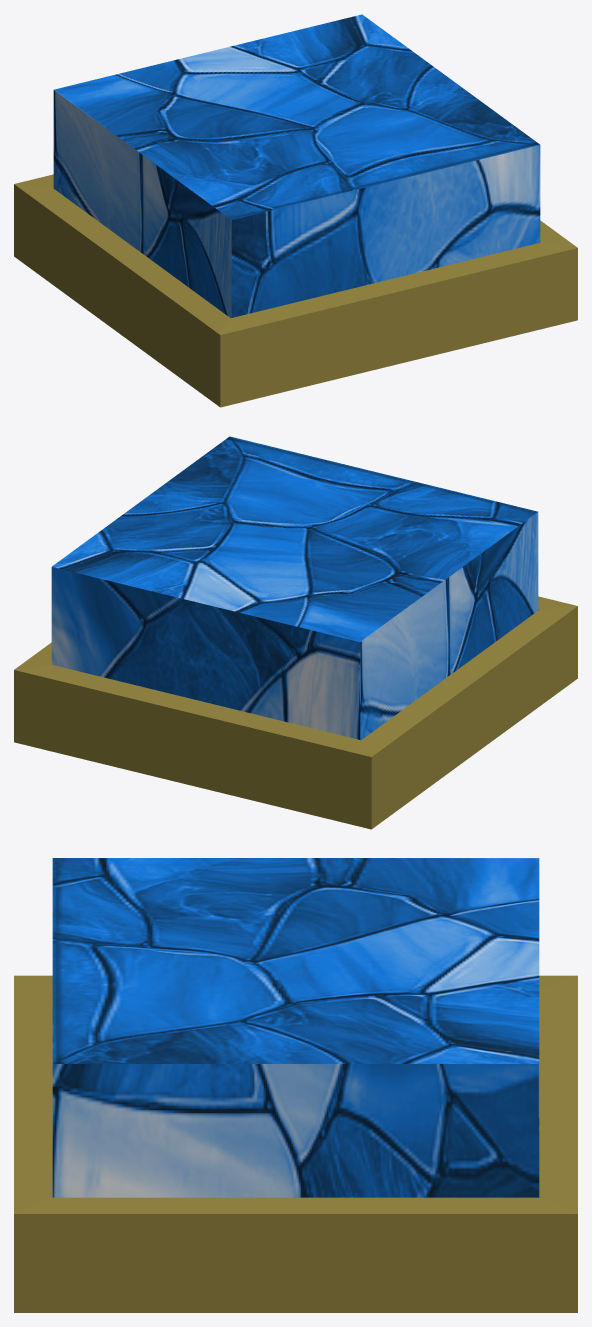
The model's file is squareUnpressed.glb.
3 renders of one model, top to bottom at view 1: azimuth 30°, elevation 25°; view 2: azimuth 150°, elevation 25°; view 3: azimuth 270°, elevation 25°, orthographic. The views are drawn at different scales.
Visible parts, largest first — view 1: Cube.002; view 2: Cube.002; view 3: Cube.002.
Part boxes in pixels (x1,y1,x2,y2): Cube.002: [14, 14, 577, 407]; Cube.002: [14, 436, 577, 829]; Cube.002: [14, 858, 577, 1312].
Size of the model in its own units: 1 by 0.4615 by 1.
Materials: 2 (1 with a texture image).
